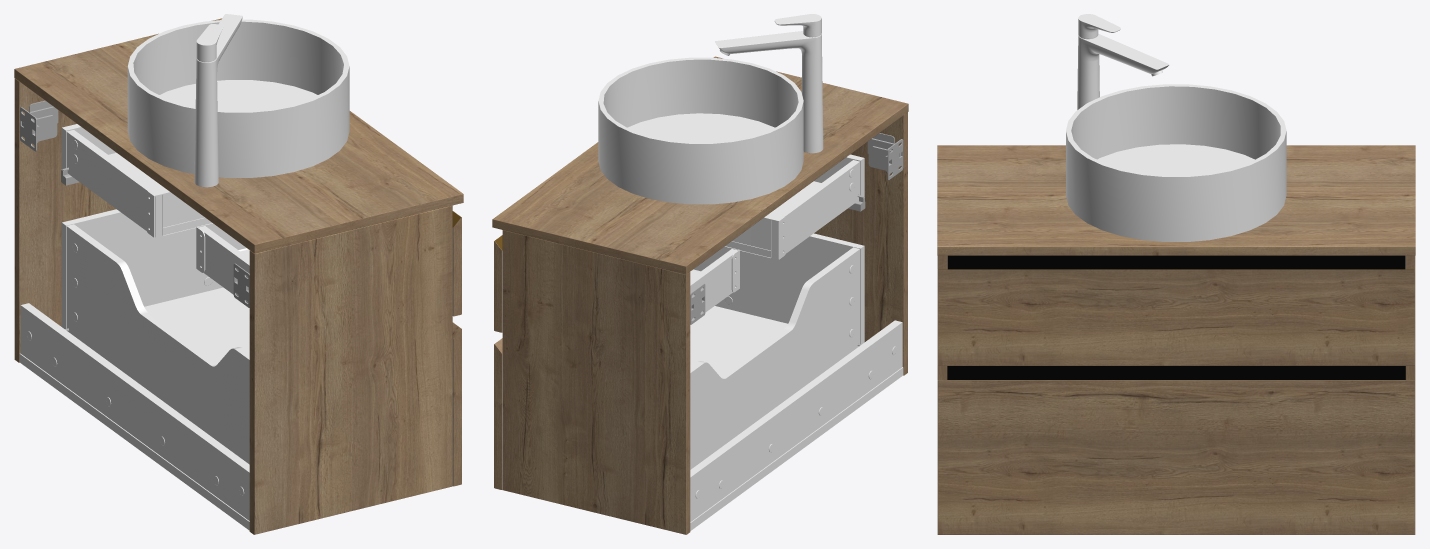
3 renders of one model, left to right at view 1: azimuth 30°, elevation 25°; view 2: azimuth 150°, elevation 25°; view 3: azimuth 270°, elevation 25°, orthographic. The views are drawn at different scales.
Visible parts, largest first — view 1: Object_8, Object_6, Object_3, Object_2, Object_7; view 2: Object_8, Object_6, Object_3, Object_2, Object_7; view 3: Object_8, Object_3, Object_5, Object_2.
Part boxes in pixels (x1,y1,x2,y2): Object_8: (14, 18, 463, 534); Object_6: (19, 124, 452, 530); Object_3: (127, 19, 349, 177); Object_2: (194, 14, 242, 187); Object_7: (20, 100, 249, 330); Object_8: (492, 56, 908, 534); Object_6: (502, 154, 903, 530); Object_3: (598, 57, 803, 204); Object_2: (715, 14, 823, 153); Object_7: (690, 133, 903, 346); Object_8: (937, 145, 1415, 534); Object_3: (1066, 84, 1286, 241); Object_5: (947, 255, 1405, 379); Object_2: (1077, 14, 1169, 109).
Size of the model in its own units: 45.2 by 89.17 by 90.
Materials: 7 (1 with a texture image).
